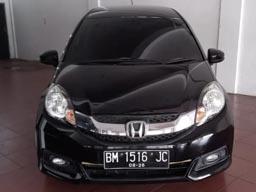plat: (105, 151, 168, 162)
